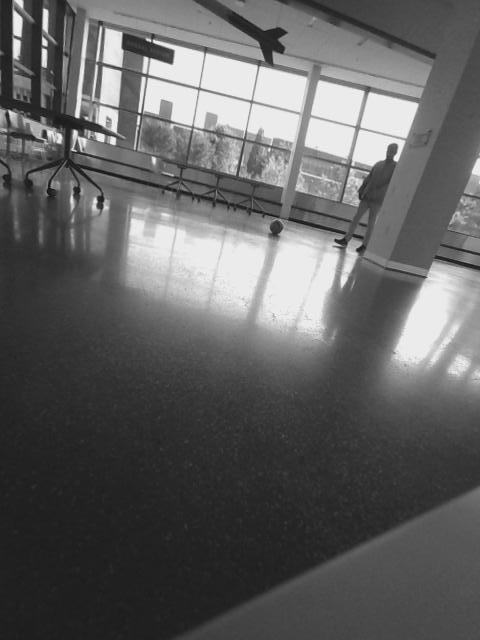ball: (266, 216, 286, 237)
